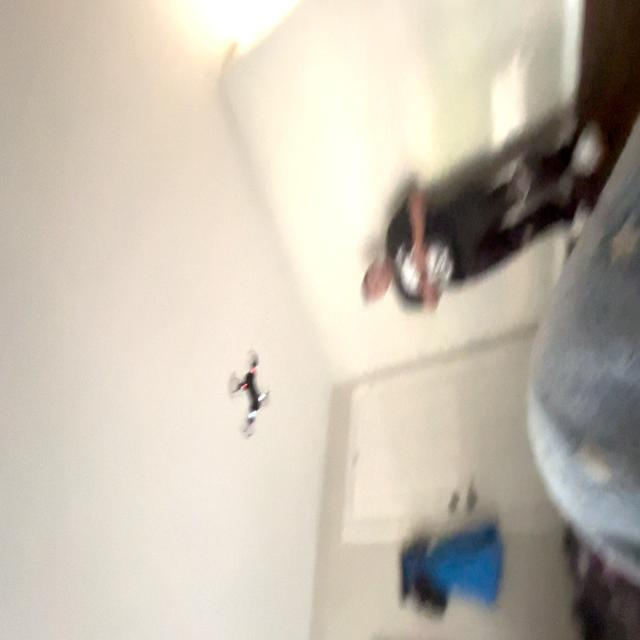drone: (220, 342, 273, 444)
